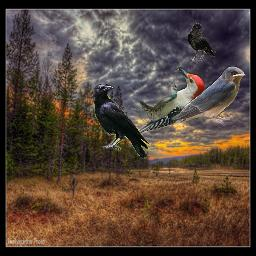Crow: (93, 84, 151, 159), (187, 23, 216, 61)
Swallow: (171, 66, 246, 127)
Woodpecker: (132, 67, 205, 135)
